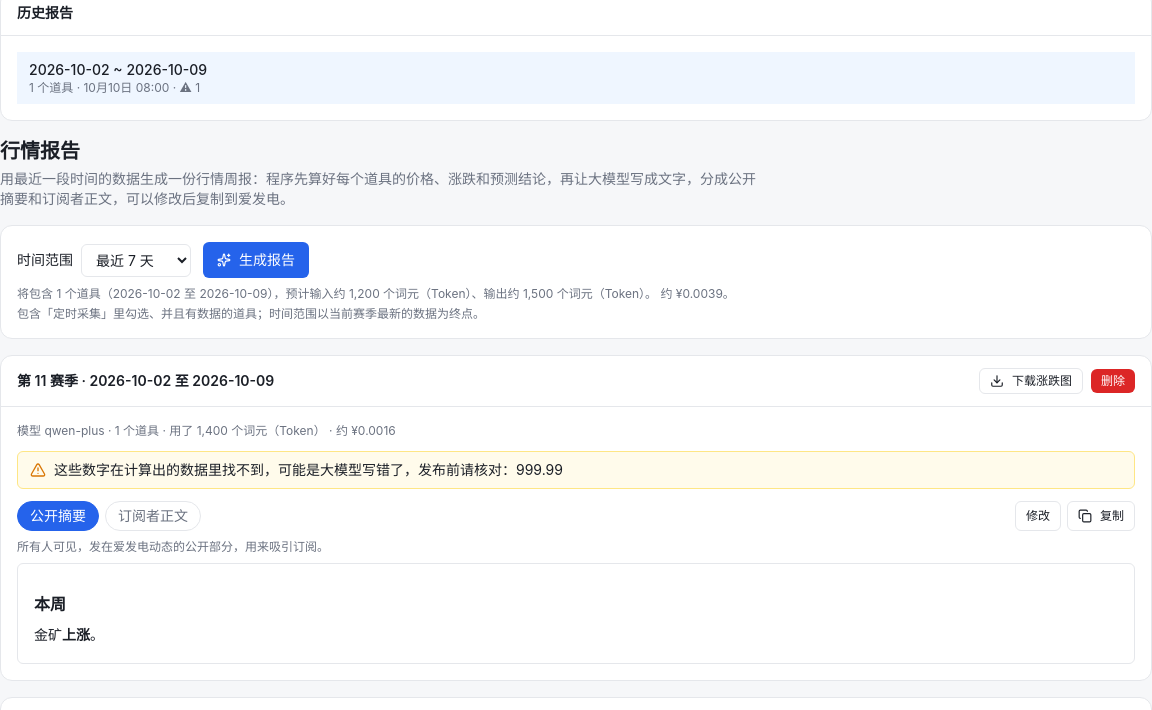
shows a report: preview, flagged numbers and the facts behind it
This screenshot has width=1152, height=710.
Check: the message shows "999.99", box x1=54 y1=461 x2=563 y2=478
Click the tab "订阅者正文" at (153, 516), box x1=105 y1=501 x2=201 y2=531
(page scrolled)
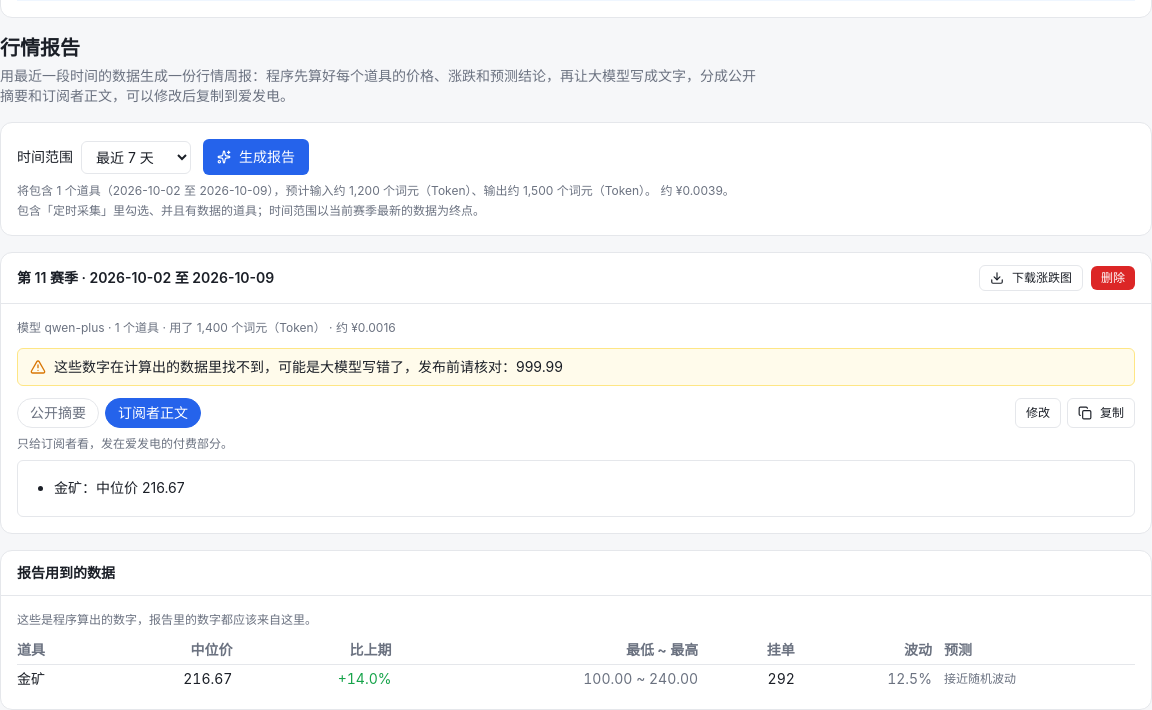
Check: the text "接近随机波动" is shown, box x1=944 y1=671 x2=1016 y2=686
Check: the list item "金矿：中位价 216.67" is shown, box x1=54 y1=479 x2=185 y2=496
